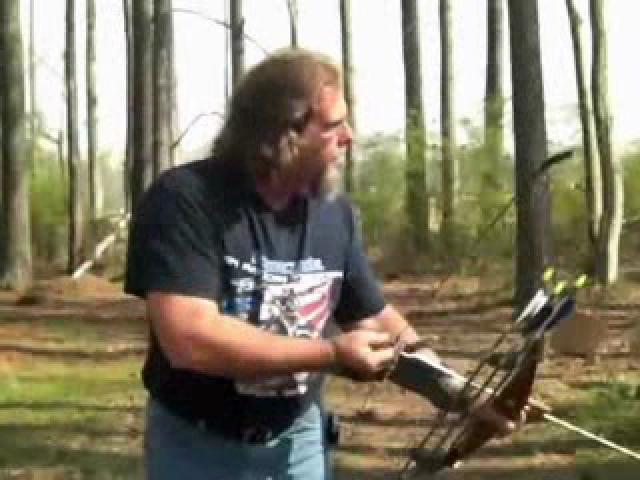I: (108, 30, 568, 460)
